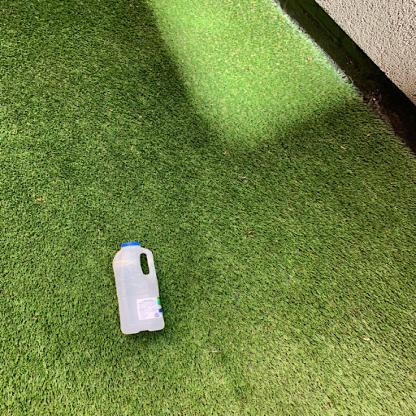trash: (110, 240, 166, 334)
